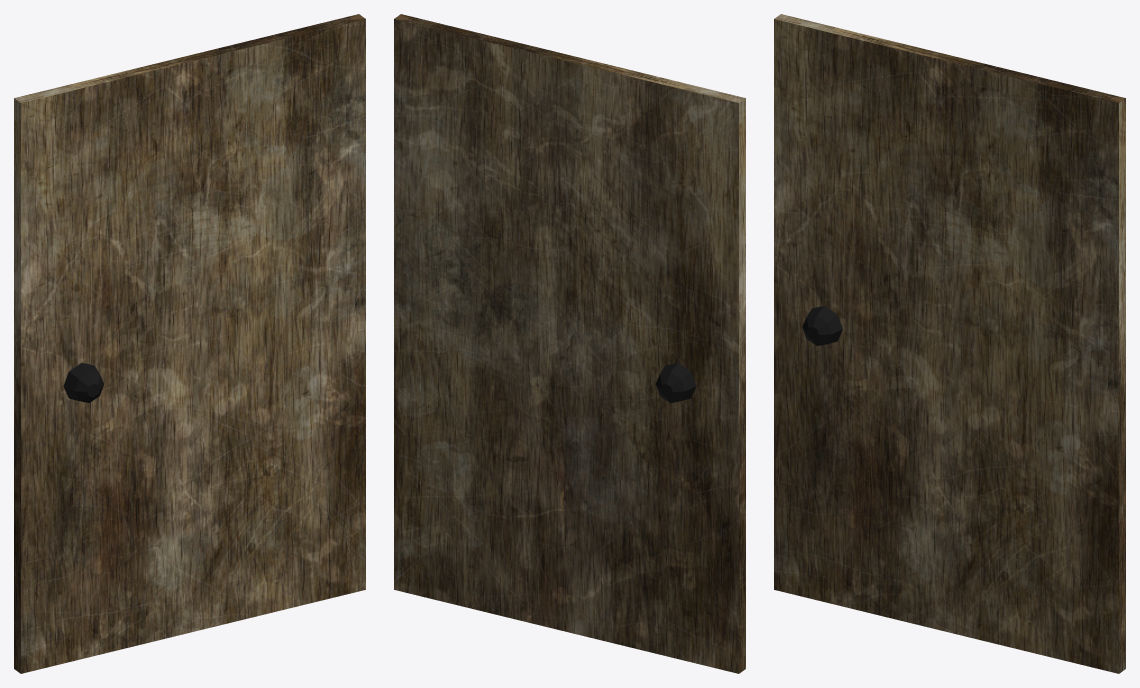
Rendered from дверь.fbx.
3 views of the same model, side by side, from view 1: azimuth 30°, elevation 25°; view 2: azimuth 150°, elevation 25°; view 3: azimuth 330°, elevation 25° (orthographic).
Parts seen in each view (by area): view 1: Cylinder.007; view 2: Cylinder.007; view 3: Cylinder.007.
Boxes of the visible parts, bbox=[...] form: Cylinder.007: bbox=[14, 14, 365, 673]; Cylinder.007: bbox=[394, 14, 745, 673]; Cylinder.007: bbox=[774, 14, 1125, 673].
Bounding box in the file's own units: 38.81 × 61.37 × 7.91.
Materials: 2 (1 with a texture image).
